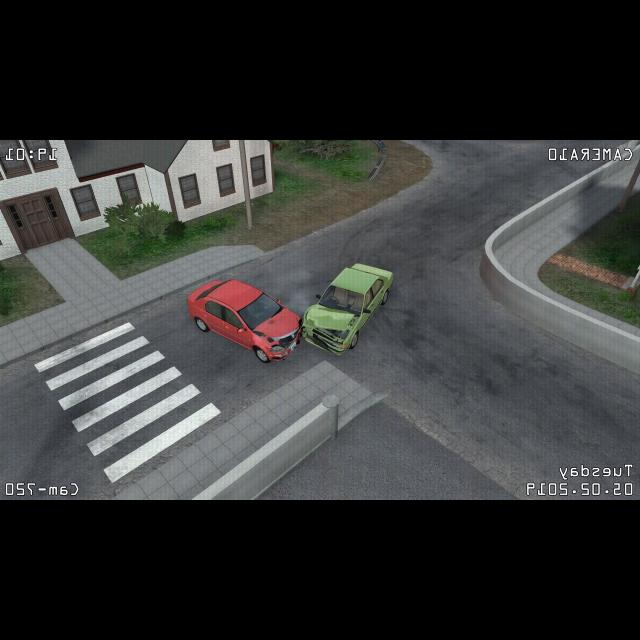accident: (182, 256, 402, 366)
